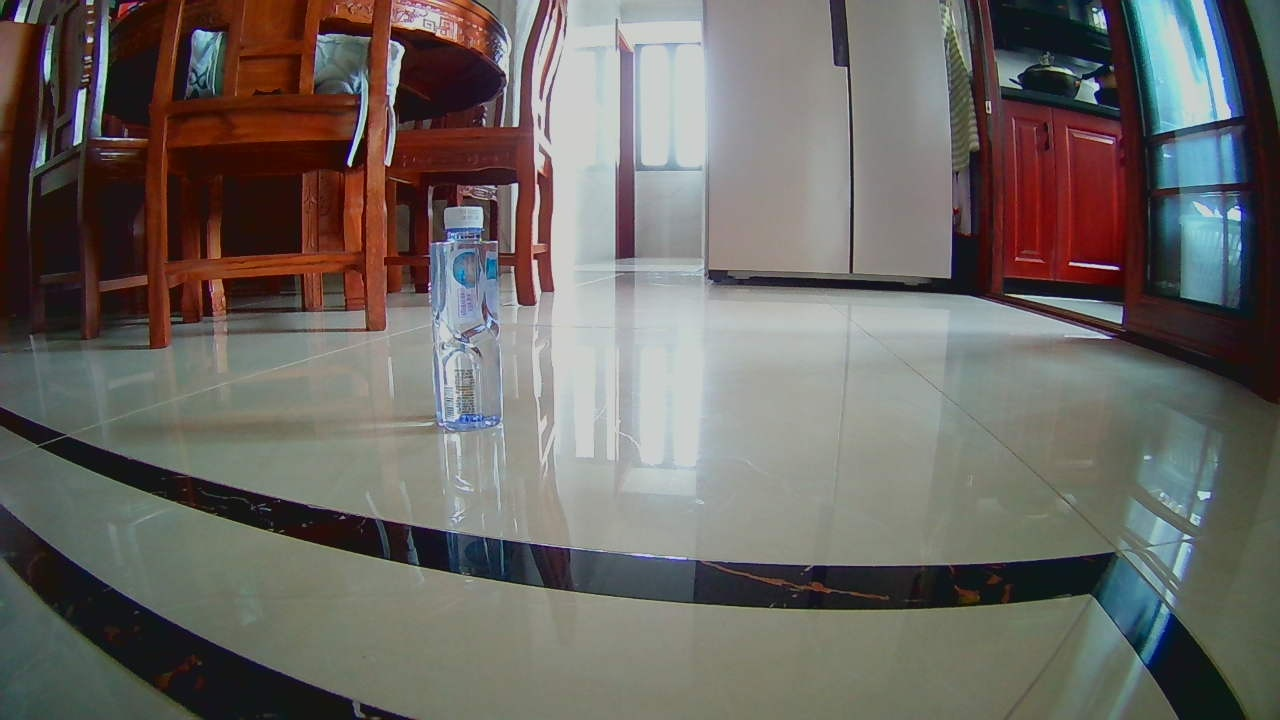water: (429, 205, 504, 427)
